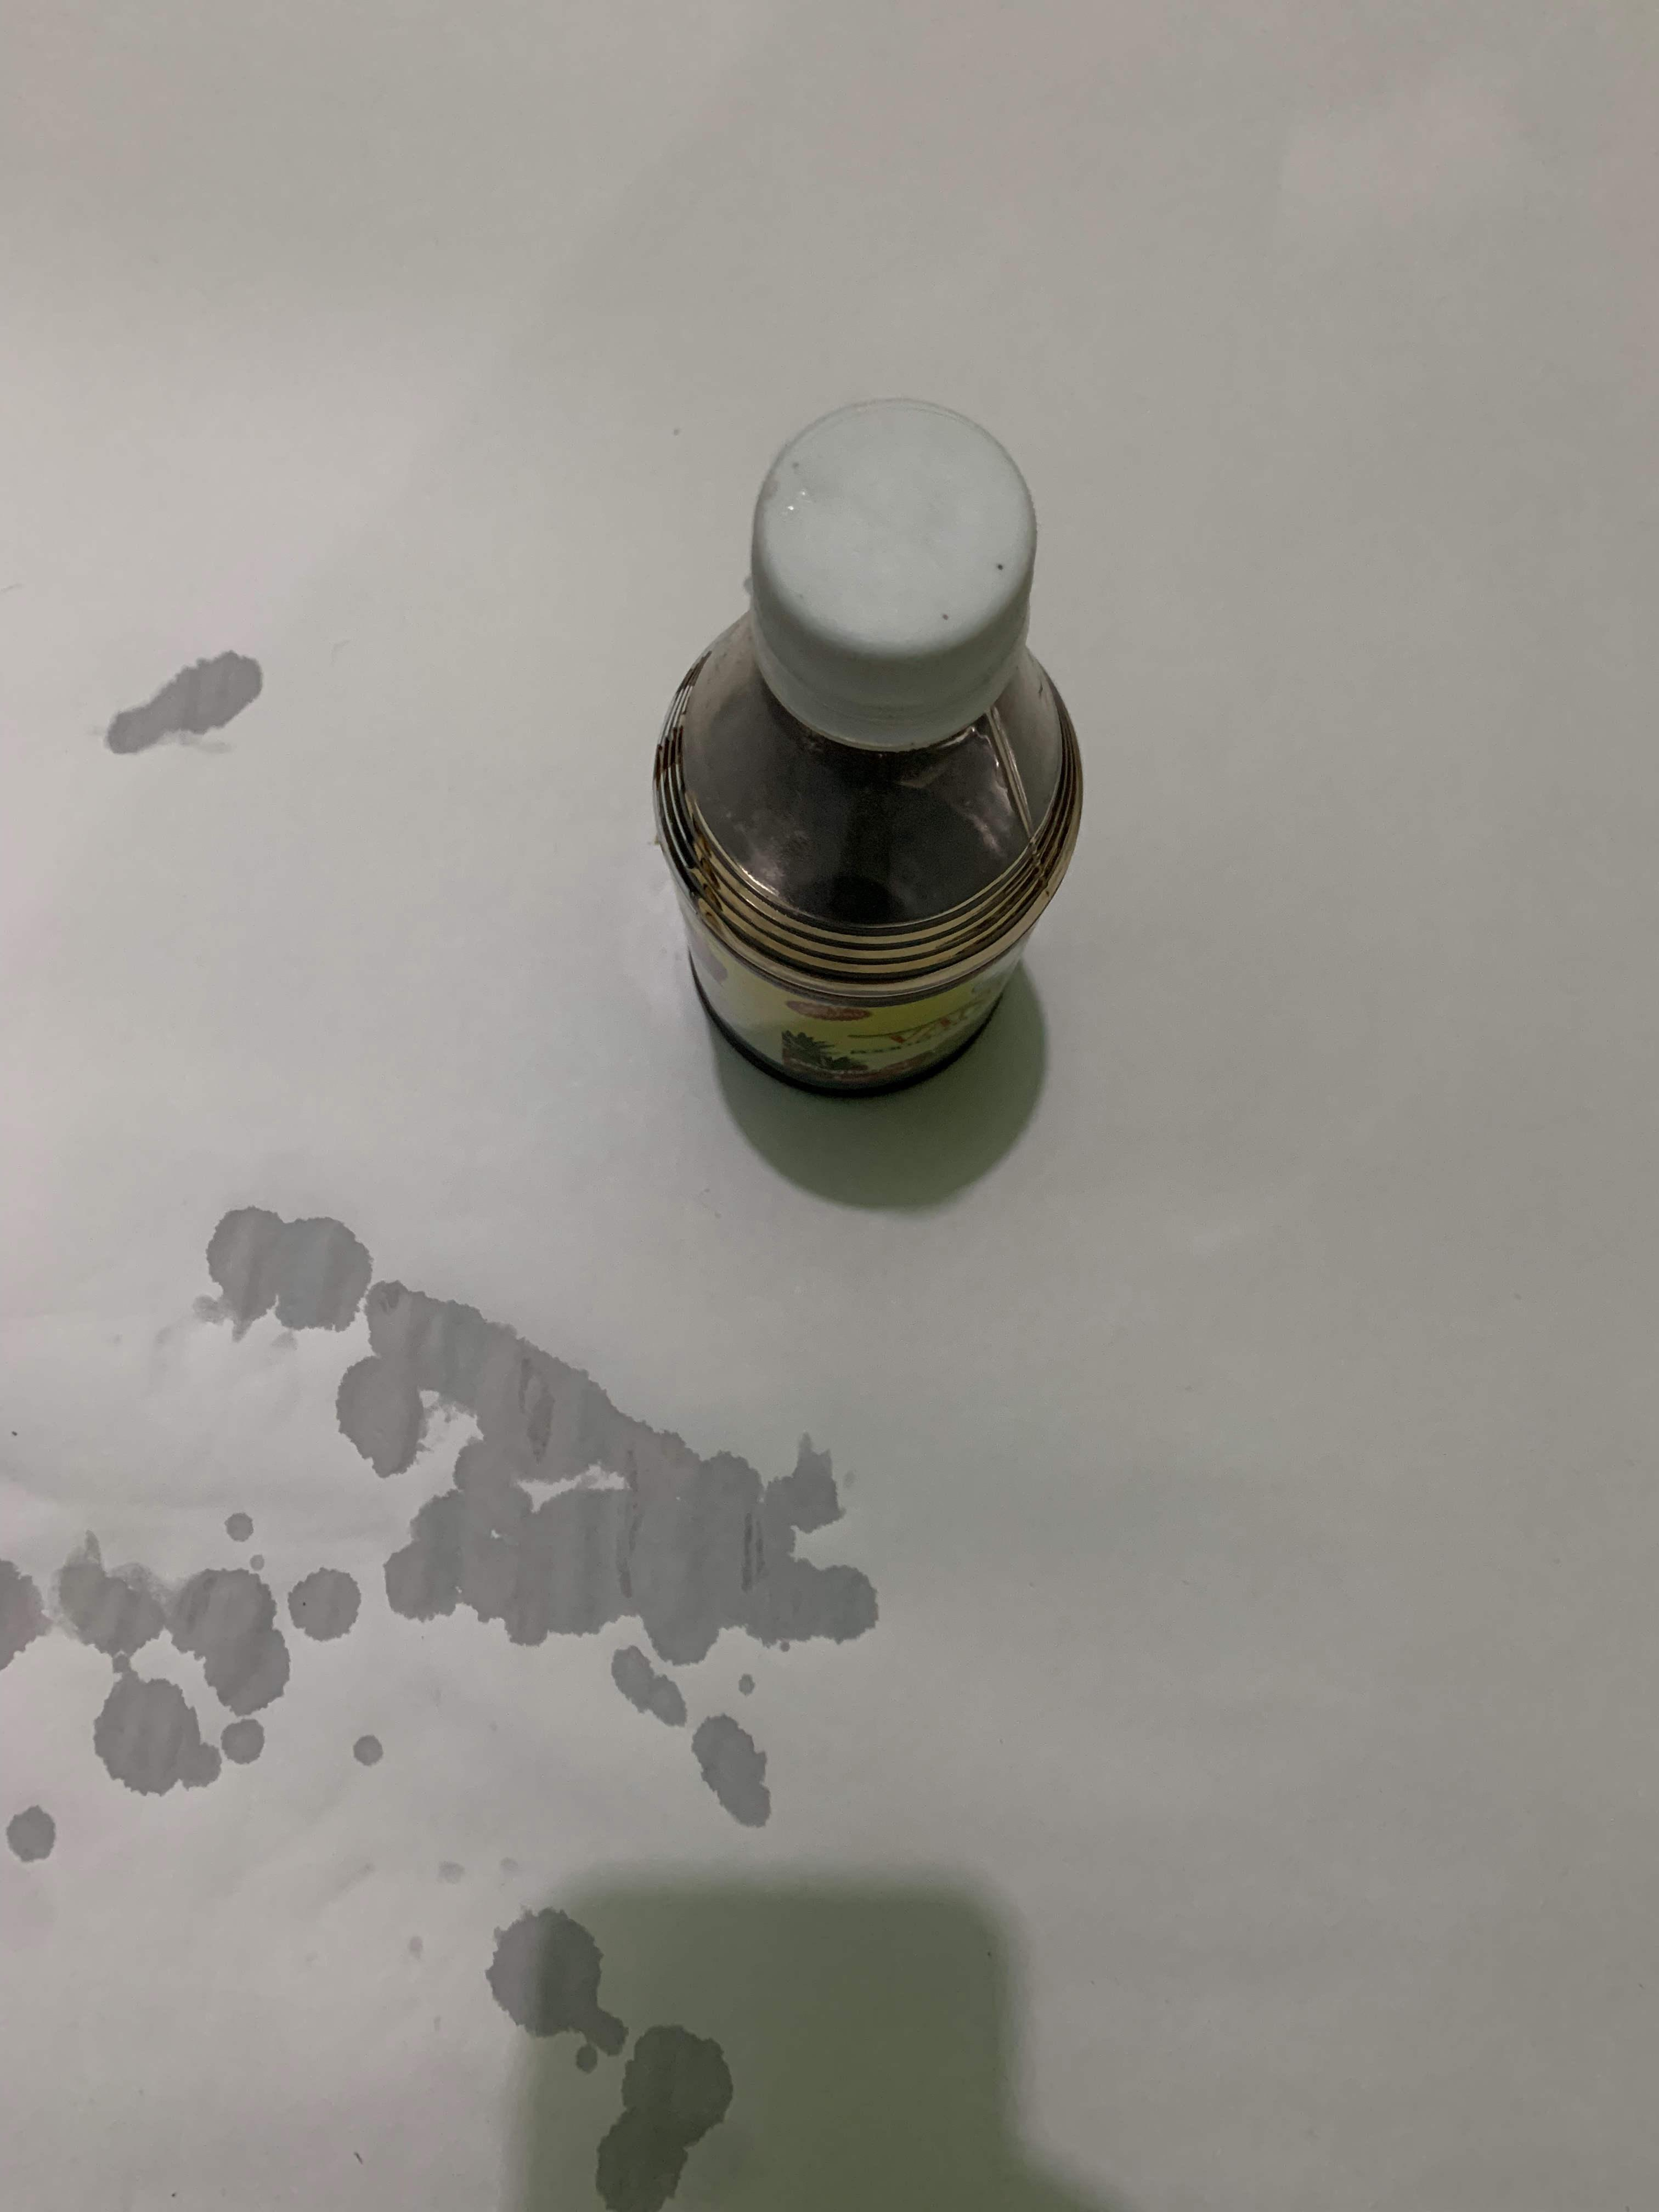bottle: (0, 390, 261, 1120)
